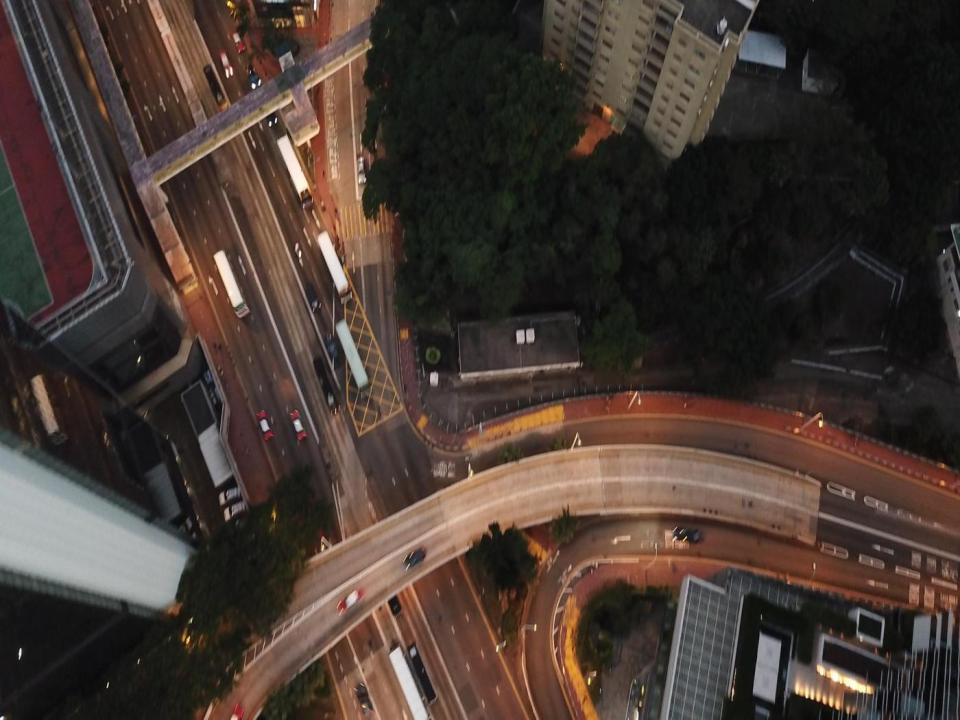bus: (388, 648, 429, 719), (336, 320, 372, 397), (277, 133, 313, 210), (316, 230, 353, 302), (213, 249, 250, 318), (406, 640, 437, 706), (382, 583, 403, 618)
car: (311, 355, 340, 414), (203, 64, 225, 106), (338, 588, 368, 614), (354, 682, 374, 716), (323, 330, 339, 366), (402, 548, 428, 570), (289, 408, 306, 440), (256, 410, 272, 440), (304, 282, 320, 312), (672, 526, 700, 543), (245, 64, 262, 90), (231, 28, 245, 54), (219, 49, 232, 77), (263, 101, 277, 126), (356, 155, 367, 184), (229, 703, 245, 719)
